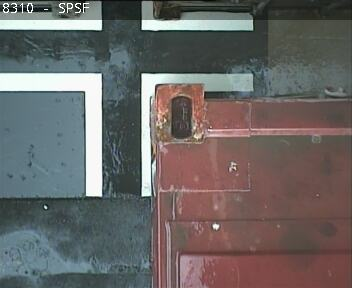groundmarker_1: (2, 71, 255, 195)
